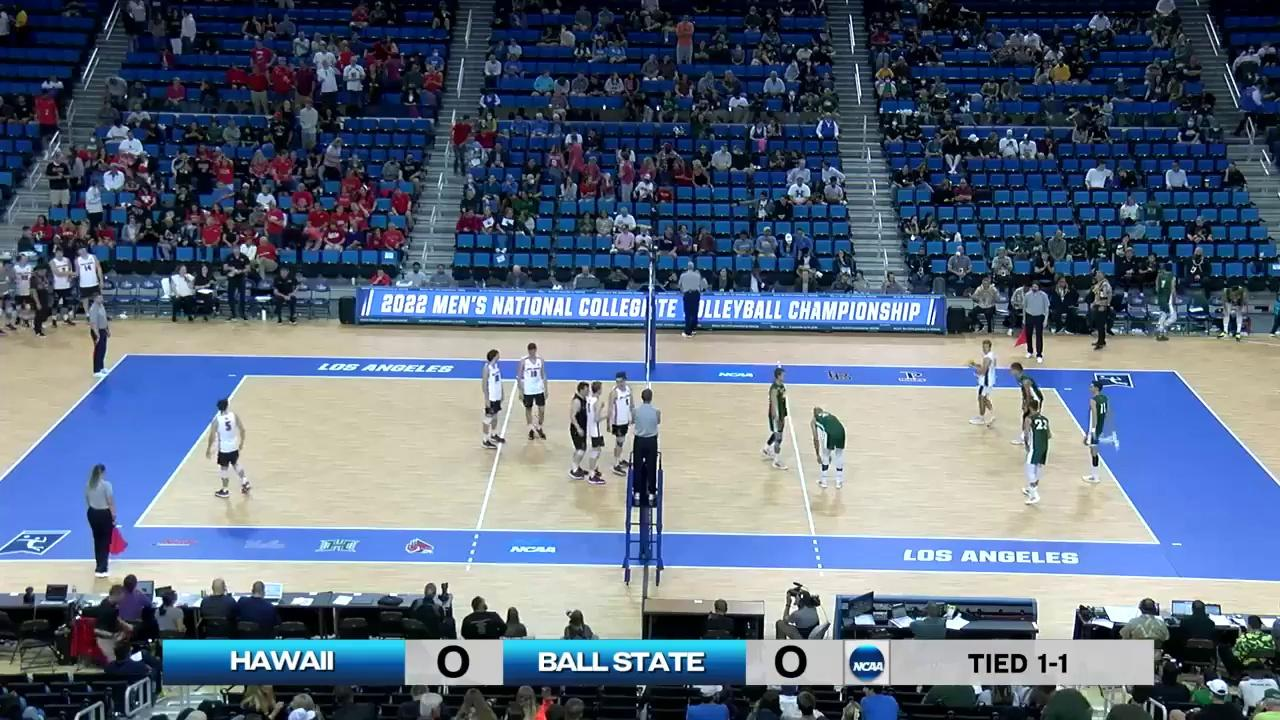player: (206, 397, 250, 498), (516, 341, 551, 443), (1022, 401, 1051, 506), (762, 368, 792, 469), (608, 370, 637, 474), (1009, 363, 1044, 449), (811, 406, 845, 490), (1084, 383, 1112, 484), (479, 348, 506, 450), (970, 341, 999, 428), (584, 380, 607, 484), (568, 381, 591, 478)
refree: (84, 462, 126, 577), (631, 389, 661, 505), (1021, 282, 1051, 359), (88, 293, 113, 378), (681, 261, 701, 339)
